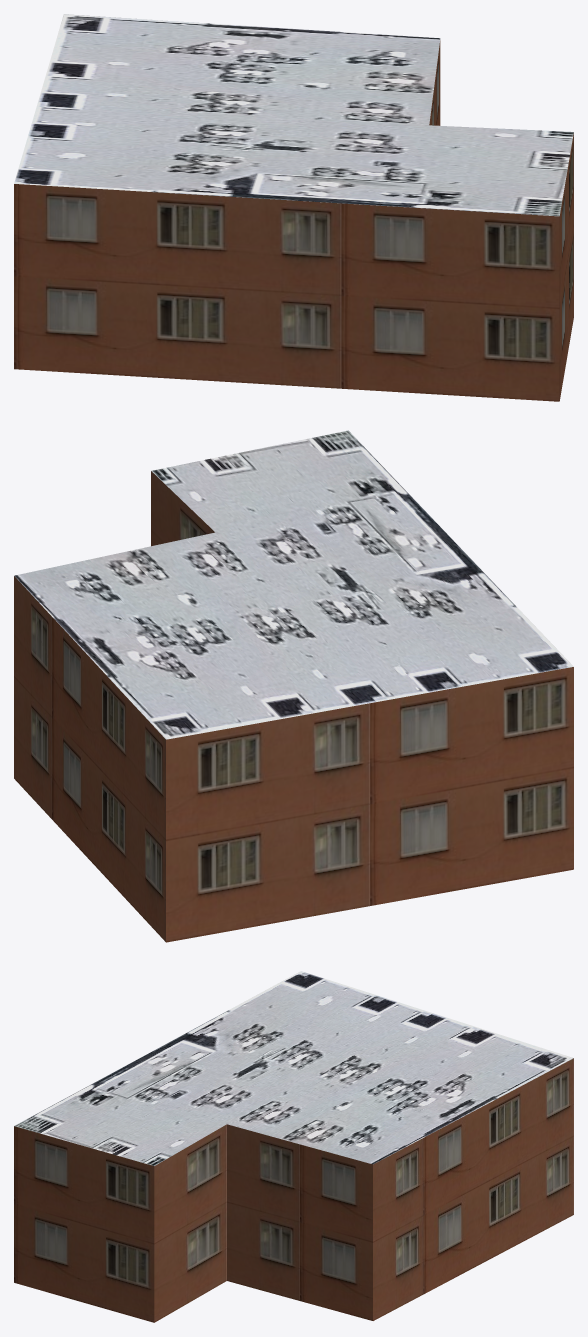
The model's file is ResTex__2935.fbx.
3 views of the same model, one above another, from view 1: azimuth 30°, elevation 25°; view 2: azimuth 150°, elevation 25°; view 3: azimuth 270°, elevation 25° (orthographic). The views are drawn at different scales.
Visible parts, largest first — view 1: CityEngineMaterial_20_m, CityEngineMaterial_2_m; view 2: CityEngineMaterial_20_m, CityEngineMaterial_2_m; view 3: CityEngineMaterial_20_m, CityEngineMaterial_2_m.
Boxes of the visible parts, x1=… form: CityEngineMaterial_20_m: x1=14, y1=40, x2=573, y2=401; CityEngineMaterial_2_m: x1=14, y1=14, x2=573, y2=216; CityEngineMaterial_20_m: x1=14, y1=471, x2=573, y2=942; CityEngineMaterial_2_m: x1=14, y1=430, x2=573, y2=739; CityEngineMaterial_20_m: x1=14, y1=1058, x2=573, y2=1322; CityEngineMaterial_2_m: x1=14, y1=971, x2=573, y2=1165.
Bounding box in the file's own units: 16.03 × 6 × 19.44.
Materials: 2 (2 with a texture image).
